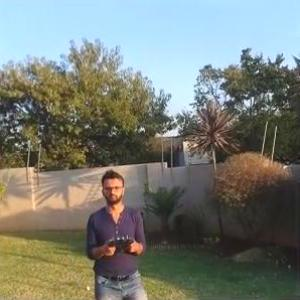follow: (85, 168, 151, 299)
